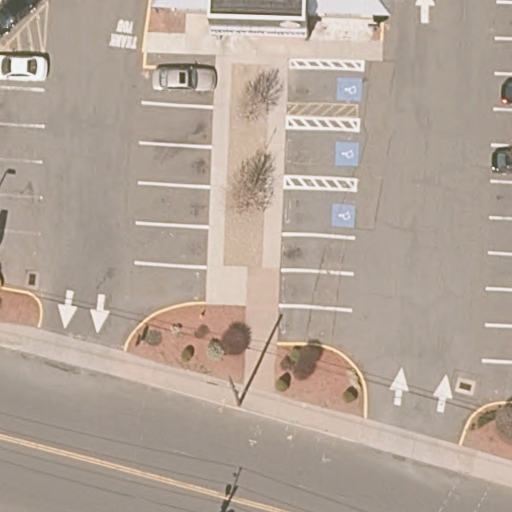DT: (225, 373, 243, 409)
